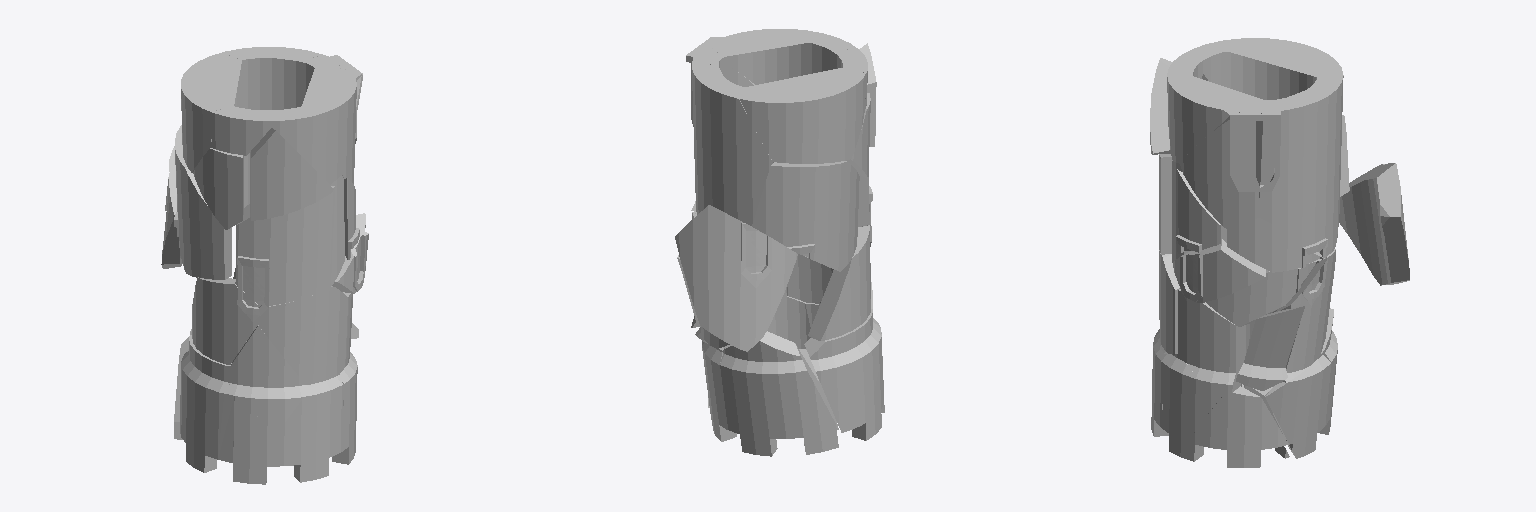
File: destruction_tower_000025.obj
3 renders of one model, left to right at view 1: azimuth 30°, elevation 25°; view 2: azimuth 150°, elevation 25°; view 3: azimuth 270°, elevation 25°, orthographic.
Parts seen in each view (by area): view 1: tower.001_cell.024_Mesh.024, tower.001_cell.028_Mesh.028, tower.001_cell.021_Mesh.021, tower.001_cell.006_Mesh.006, tower.001_cell.011_Mesh.011, tower.001_cell.002_Mesh.002, tower.001_cell.013_Mesh.013, tower.001_cell.003_Mesh.003, tower.001_cell.009_Mesh.009, tower.001_cell.015_Mesh.015, tower.001_cell.017_Mesh.017, tower.001_cell.014_Mesh.014 (+9 smaller); view 2: tower.001_cell.025_Mesh.025, tower.001_cell.007_Mesh.007, tower.001_cell.015_Mesh.015, tower.001_cell.017_Mesh.017, tower.001_cell.003_Mesh.003, tower.001_cell.028_Mesh.028, tower.001_cell.005_Mesh.005, tower.001_cell.009_Mesh.009, tower.001_cell.029_Mesh.029, tower.001_cell.021_Mesh.021, tower.001_cell.023_Mesh.023, tower.001_cell.006_Mesh.006 (+5 smaller); view 3: tower.001_cell.017_Mesh.017, tower.001_cell.020_Mesh.020, tower.001_cell.025_Mesh.025, tower.001_cell.015_Mesh.015, tower.001_cell.028_Mesh.028, tower.001_cell.030_Mesh.030, tower.001_cell_Mesh, tower.001_cell.029_Mesh.029, tower.001_cell.010_Mesh.010, tower.001_cell.023_Mesh.023, tower.001_cell.016_Mesh.016, tower.001_cell.012_Mesh.012 (+11 smaller).
Part boxes in pixels (left/top/right/bottom): tower.001_cell.024_Mesh.024: left=235, top=186, right=334, bottom=306; tower.001_cell.028_Mesh.028: left=264, top=68, right=362, bottom=184; tower.001_cell.021_Mesh.021: left=258, top=286, right=348, bottom=386; tower.001_cell.006_Mesh.006: left=185, top=391, right=275, bottom=484; tower.001_cell.011_Mesh.011: left=275, top=378, right=343, bottom=482; tower.001_cell.002_Mesh.002: left=250, top=128, right=333, bottom=220; tower.001_cell.013_Mesh.013: left=229, top=325, right=307, bottom=433; tower.001_cell.003_Mesh.003: left=174, top=125, right=231, bottom=279; tower.001_cell.009_Mesh.009: left=192, top=277, right=258, bottom=364; tower.001_cell.015_Mesh.015: left=181, top=53, right=241, bottom=172; tower.001_cell.017_Mesh.017: left=222, top=47, right=322, bottom=207; tower.001_cell.014_Mesh.014: left=193, top=148, right=243, bottom=229; tower.001_cell.025_Mesh.025: left=675, top=205, right=797, bottom=351; tower.001_cell.007_Mesh.007: left=720, top=331, right=838, bottom=456; tower.001_cell.015_Mesh.015: left=739, top=68, right=865, bottom=163; tower.001_cell.017_Mesh.017: left=692, top=60, right=773, bottom=225; tower.001_cell.003_Mesh.003: left=752, top=161, right=859, bottom=271; tower.001_cell.028_Mesh.028: left=711, top=29, right=853, bottom=84; tower.001_cell.005_Mesh.005: left=804, top=309, right=881, bottom=432; tower.001_cell.009_Mesh.009: left=808, top=225, right=871, bottom=340; tower.001_cell.029_Mesh.029: left=702, top=341, right=734, bottom=441; tower.001_cell.021_Mesh.021: left=787, top=253, right=833, bottom=303; tower.001_cell.023_Mesh.023: left=767, top=296, right=816, bottom=374; tower.001_cell.006_Mesh.006: left=852, top=329, right=884, bottom=440; tower.001_cell.017_Mesh.017: left=1287, top=74, right=1343, bottom=258; tower.001_cell.020_Mesh.020: left=1180, top=108, right=1262, bottom=229; tower.001_cell.025_Mesh.025: left=1339, top=163, right=1409, bottom=285; tower.001_cell.015_Mesh.015: left=1227, top=38, right=1342, bottom=99; tower.001_cell.028_Mesh.028: left=1167, top=58, right=1263, bottom=163; tower.001_cell.030_Mesh.030: left=1179, top=386, right=1288, bottom=467; tower.001_cell_Mesh: left=1178, top=289, right=1245, bottom=393; tower.001_cell.029_Mesh.029: left=1265, top=352, right=1330, bottom=458; tower.001_cell.010_Mesh.010: left=1173, top=239, right=1265, bottom=302; tower.001_cell.023_Mesh.023: left=1162, top=353, right=1223, bottom=455; tower.001_cell.016_Mesh.016: left=1236, top=306, right=1304, bottom=390; tower.001_cell.012_Mesh.012: left=1276, top=249, right=1335, bottom=382.
Size of the model in its own units: 47.59 by 96.79 by 63.15.